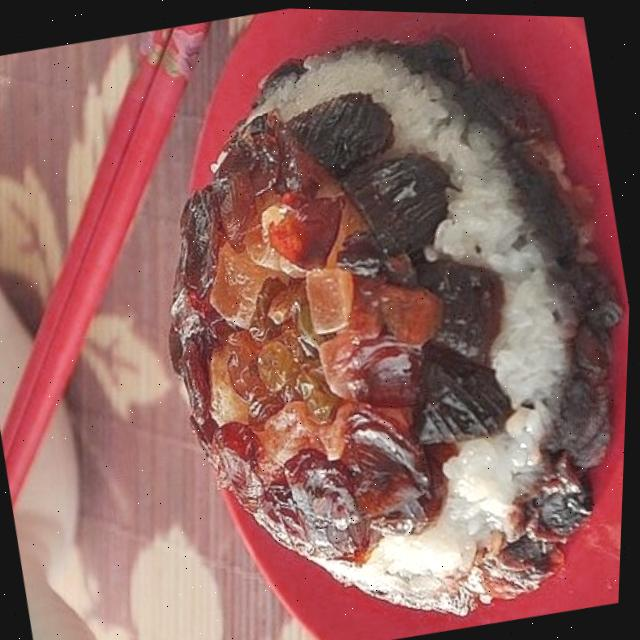米饭主食: (4, 1, 640, 640)
